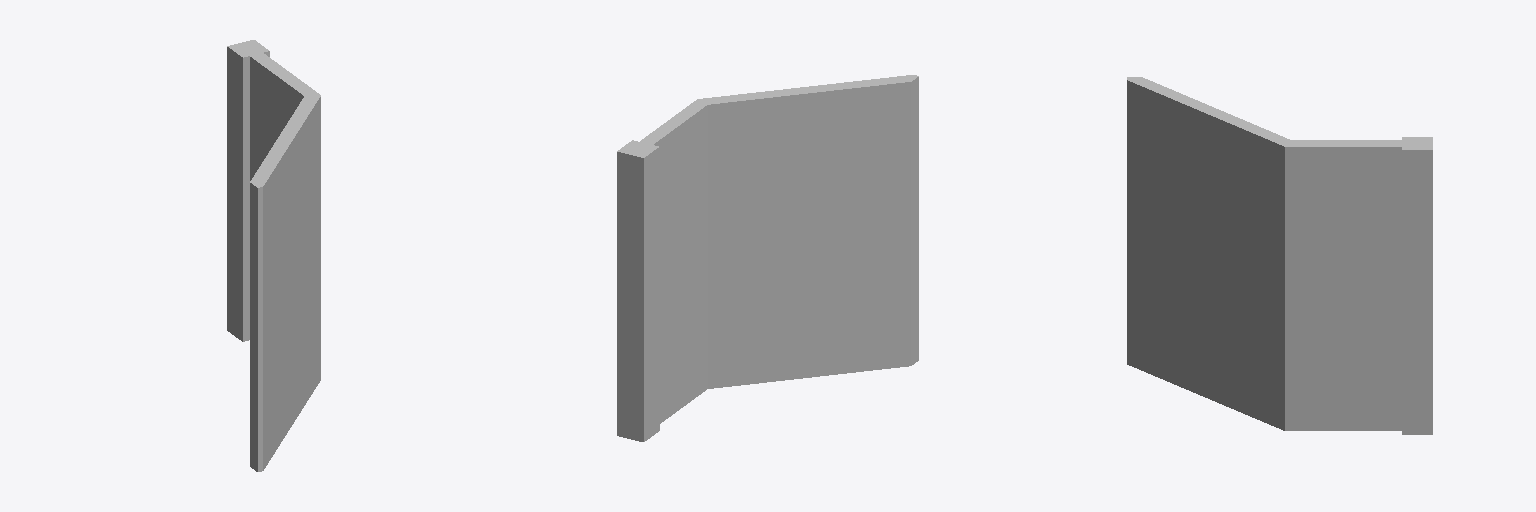
File: wall-wood-corner-diagonal-half.obj
3 renders of one model, left to right at view 1: azimuth 30°, elevation 25°; view 2: azimuth 150°, elevation 25°; view 3: azimuth 270°, elevation 25°, orthographic.
Parts seen in each view (by area): view 1: wall-wood-corner-diagonal-half; view 2: wall-wood-corner-diagonal-half; view 3: wall-wood-corner-diagonal-half.
Boxes of the visible parts, box(x1,y1,x2,y2) form: wall-wood-corner-diagonal-half: box(227, 40, 320, 471); wall-wood-corner-diagonal-half: box(617, 75, 918, 441); wall-wood-corner-diagonal-half: box(1127, 77, 1432, 434).
Size of the model in its own units: 0.55 by 1 by 0.975.